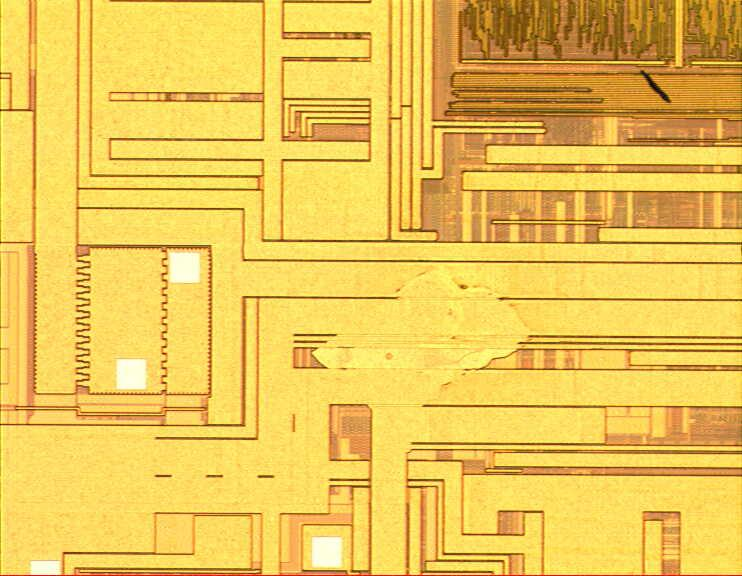BLOCK ETCH: (309, 262, 539, 435)
